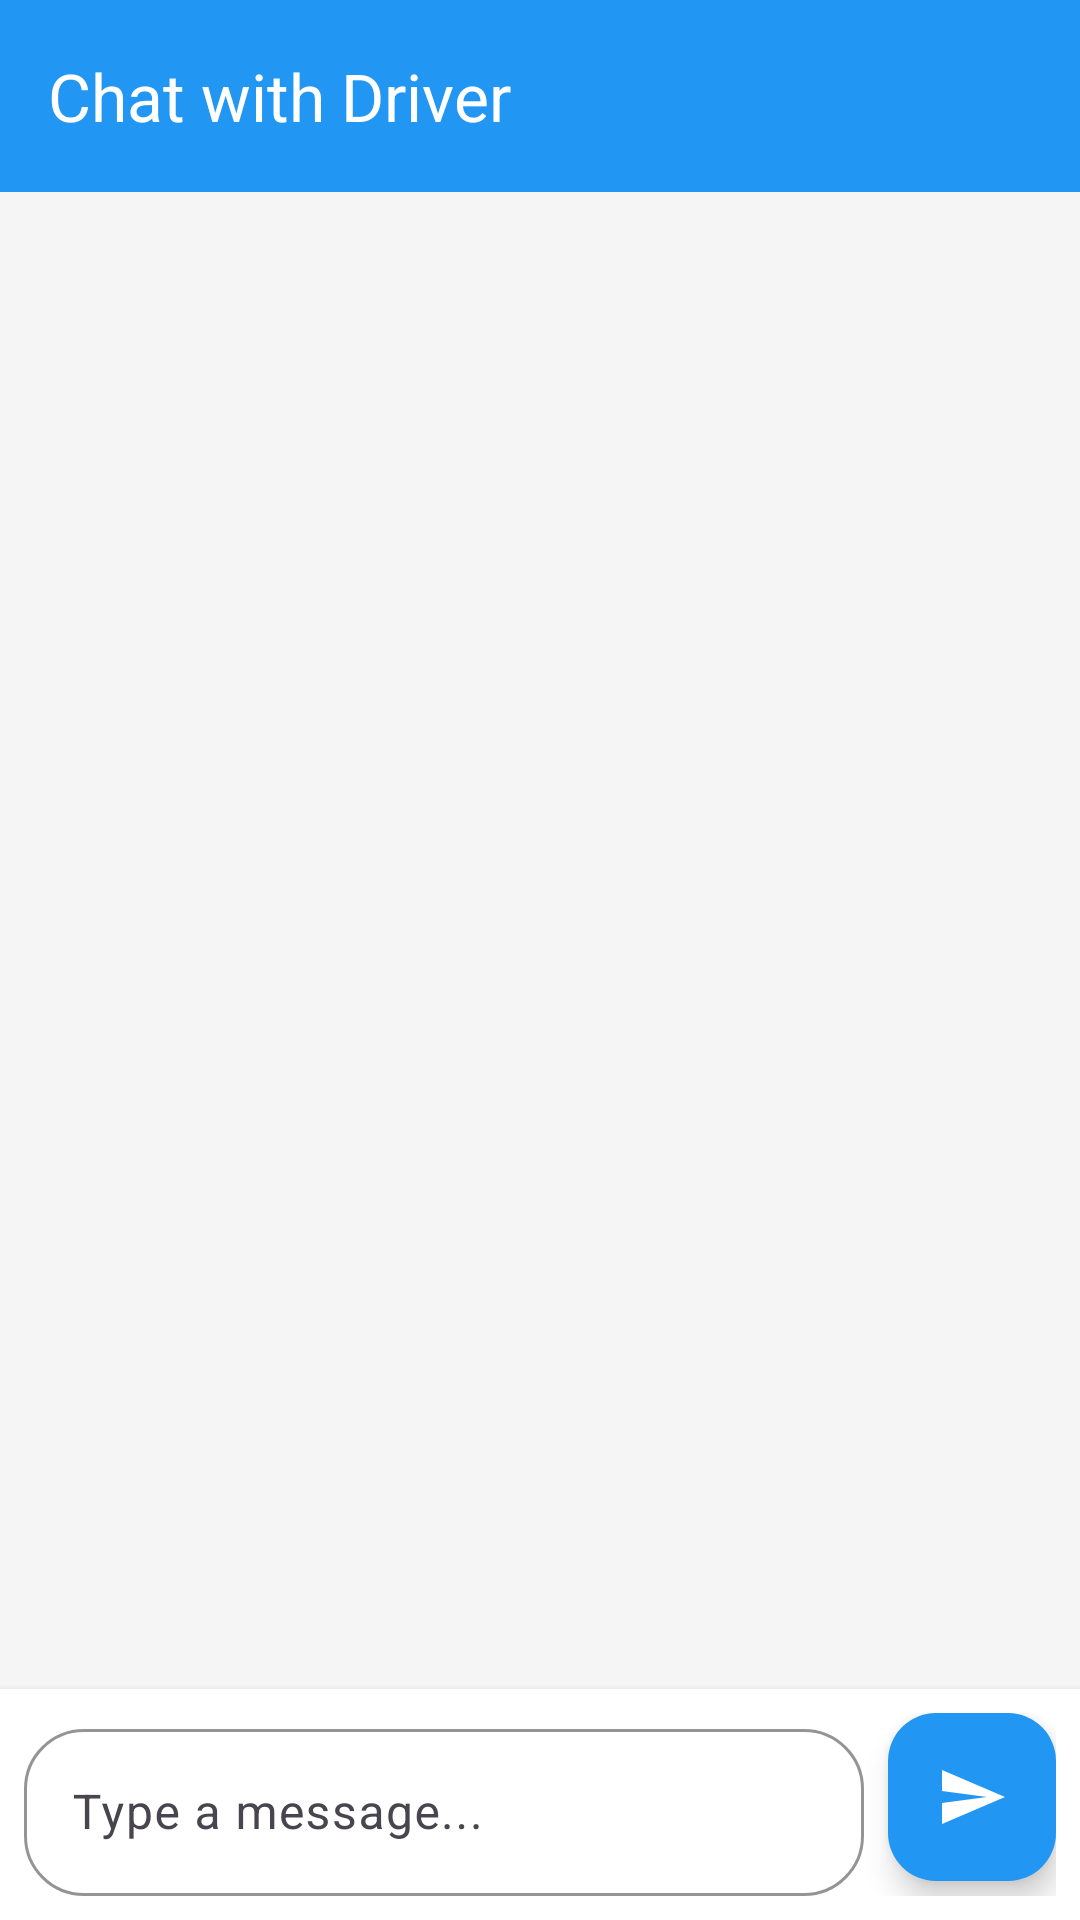

Icon bounding boxes for this 1080 x 1920 phone screenshot, format (x1, y1, x2, y2):
send: (888, 1713, 1056, 1881)
